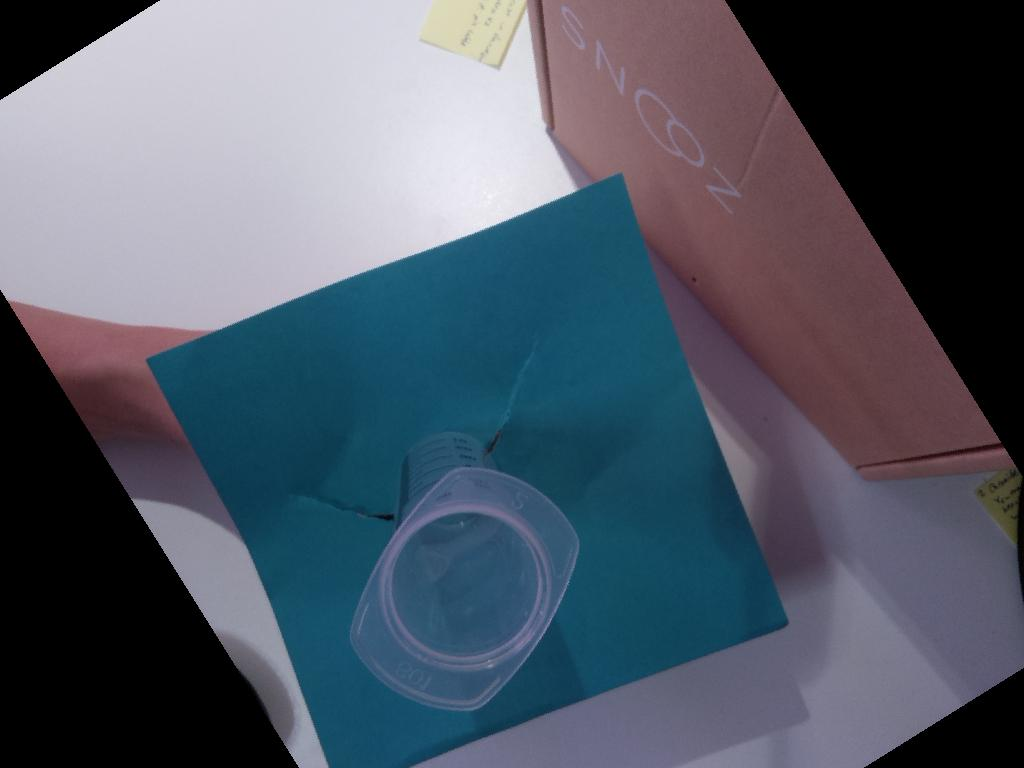clean: (346, 464, 581, 708)
